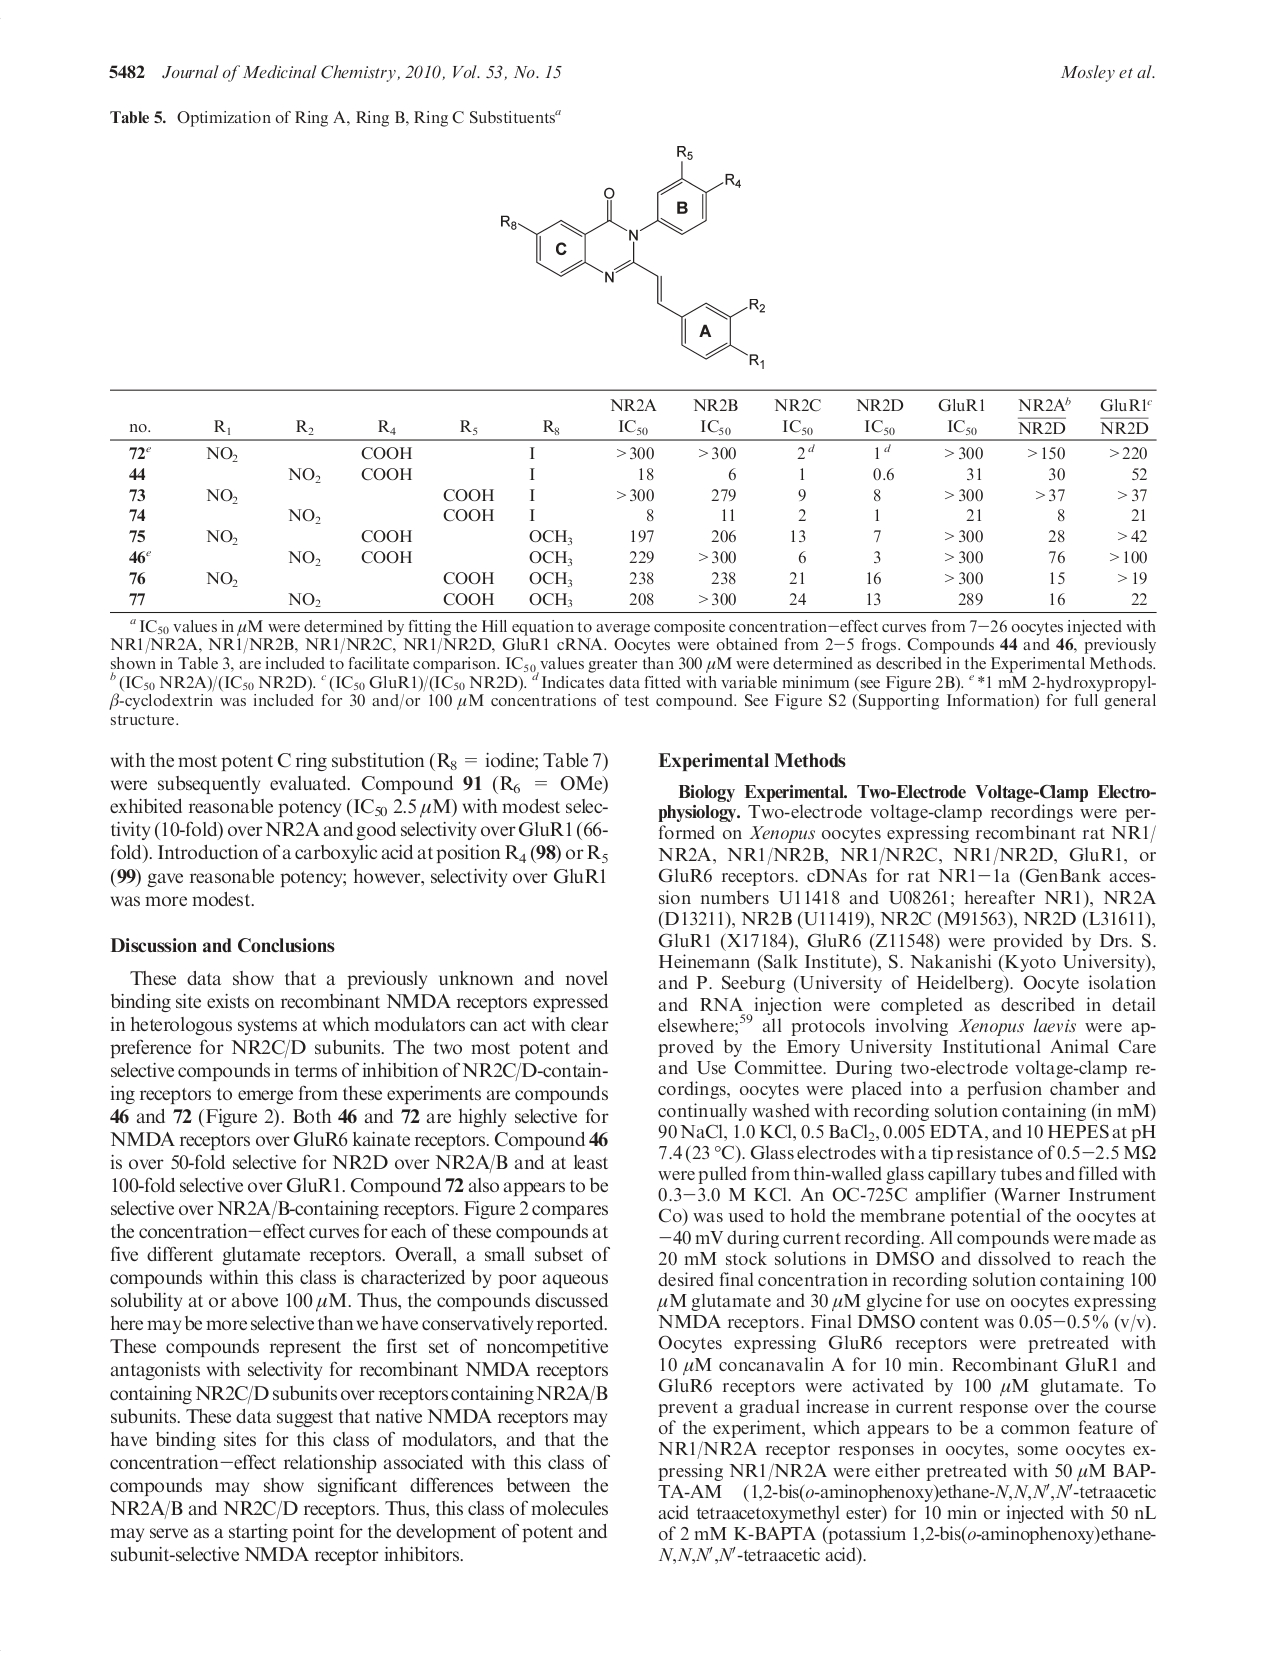exist_molecular: (497, 141, 771, 370)
